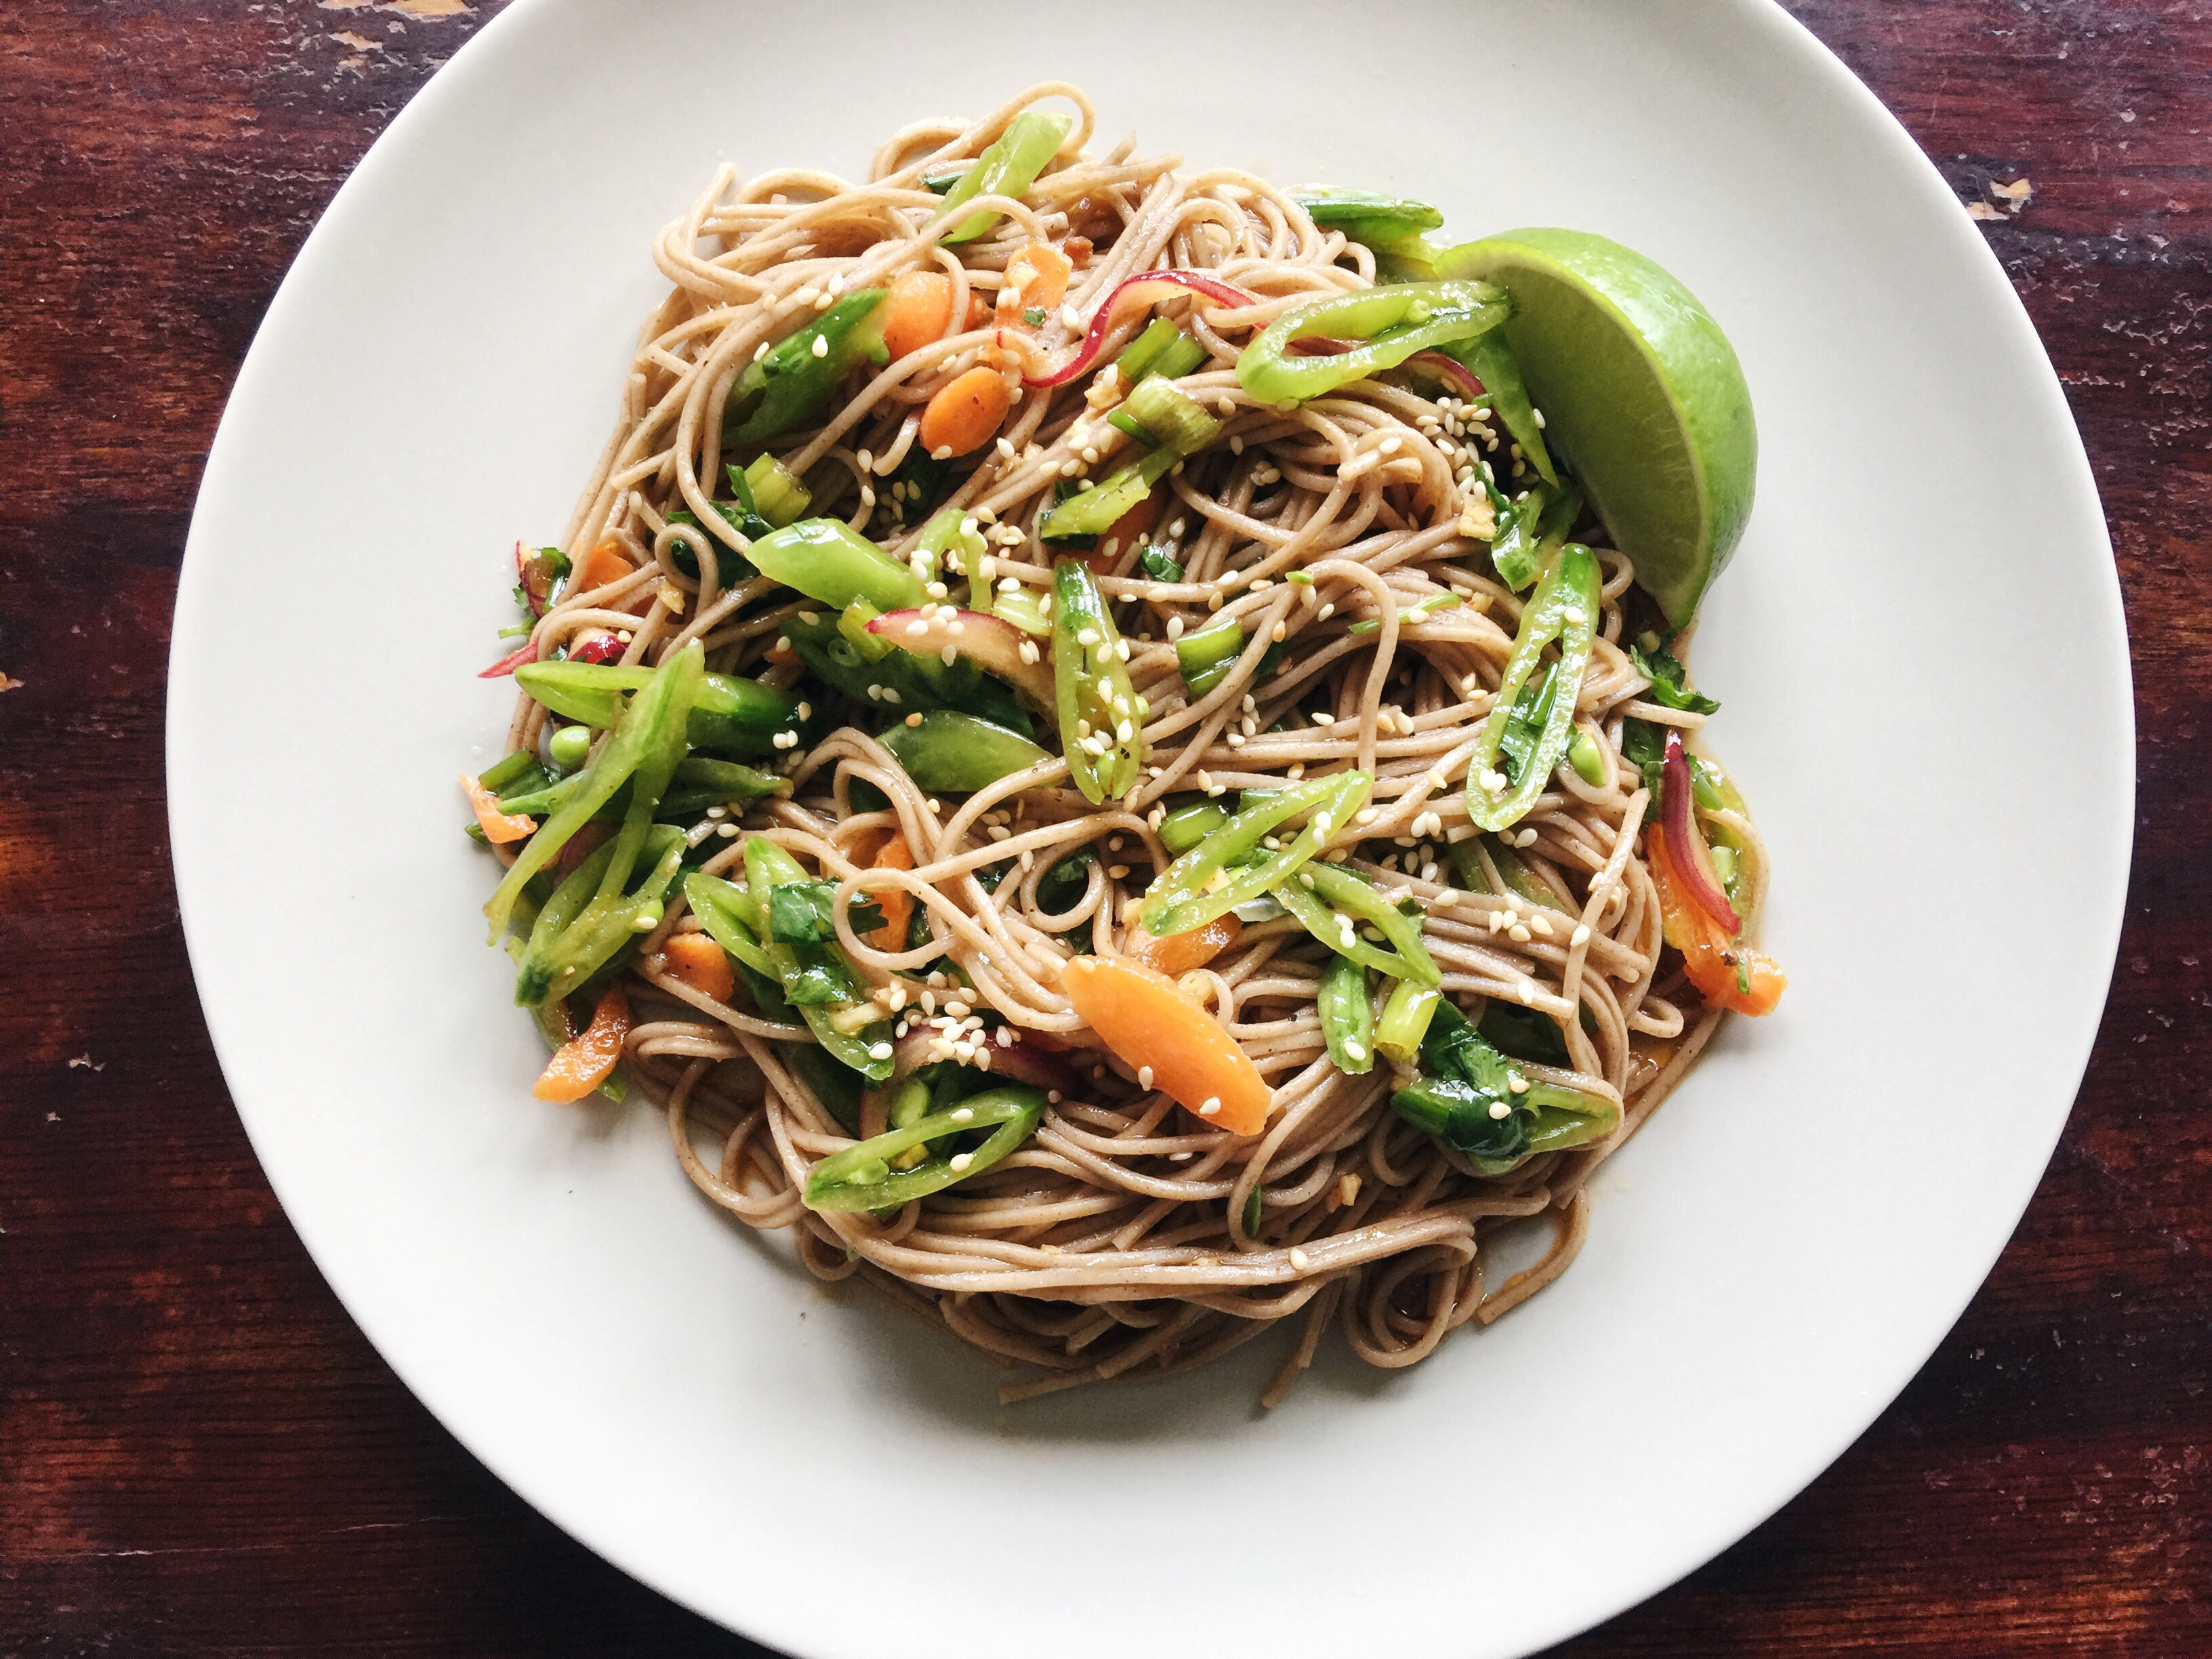Soba: (495, 119, 1831, 1481)
